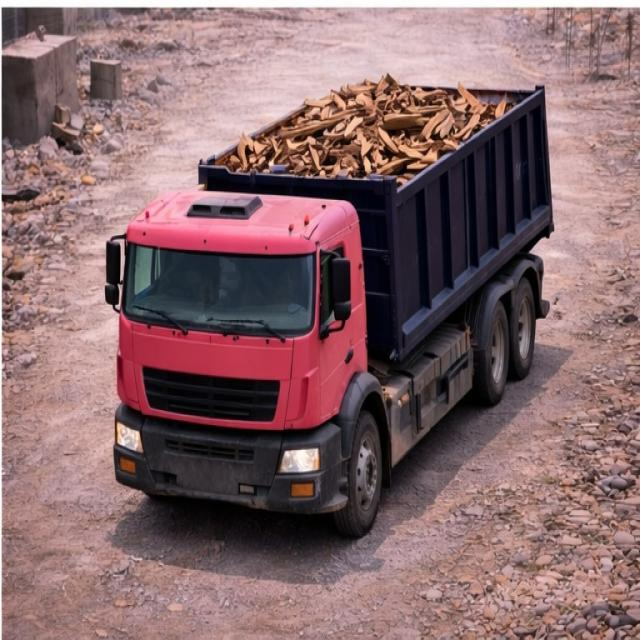Box: (192, 64, 550, 193)
Truck: (93, 32, 579, 522)
